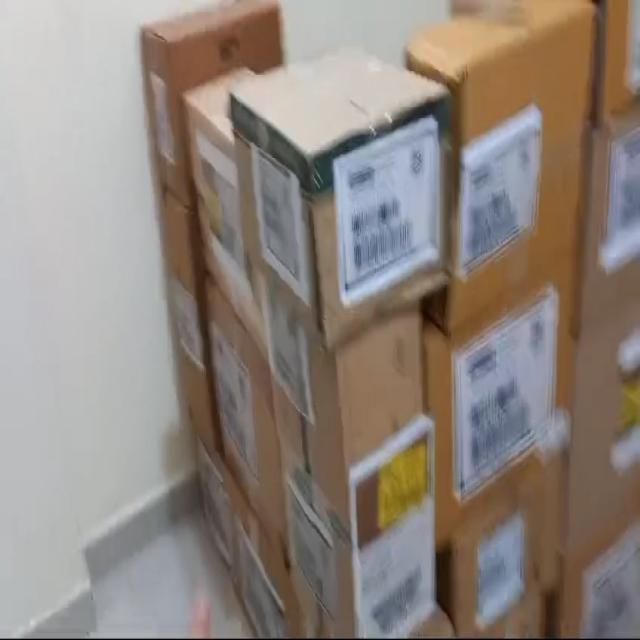BoxFace: (421, 247, 578, 548), (439, 15, 575, 322), (303, 84, 453, 348), (328, 323, 432, 640), (444, 446, 568, 630)
